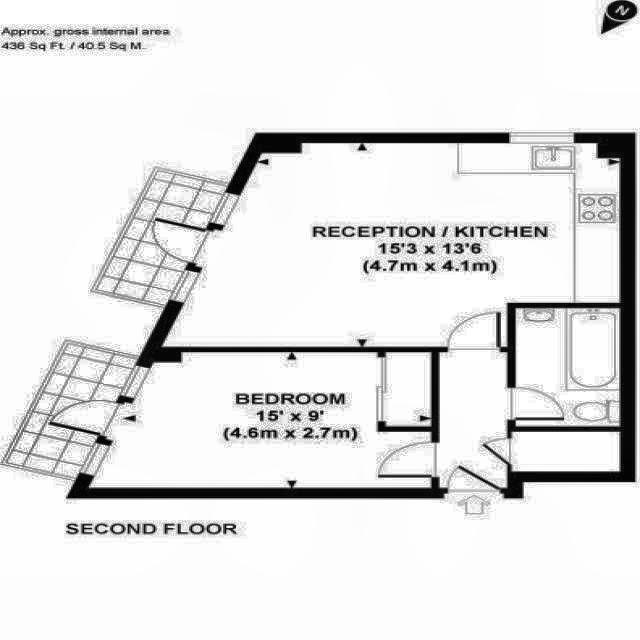room: (163, 141, 619, 347), (90, 352, 432, 488), (516, 309, 620, 425), (440, 353, 507, 487), (513, 432, 620, 470)
